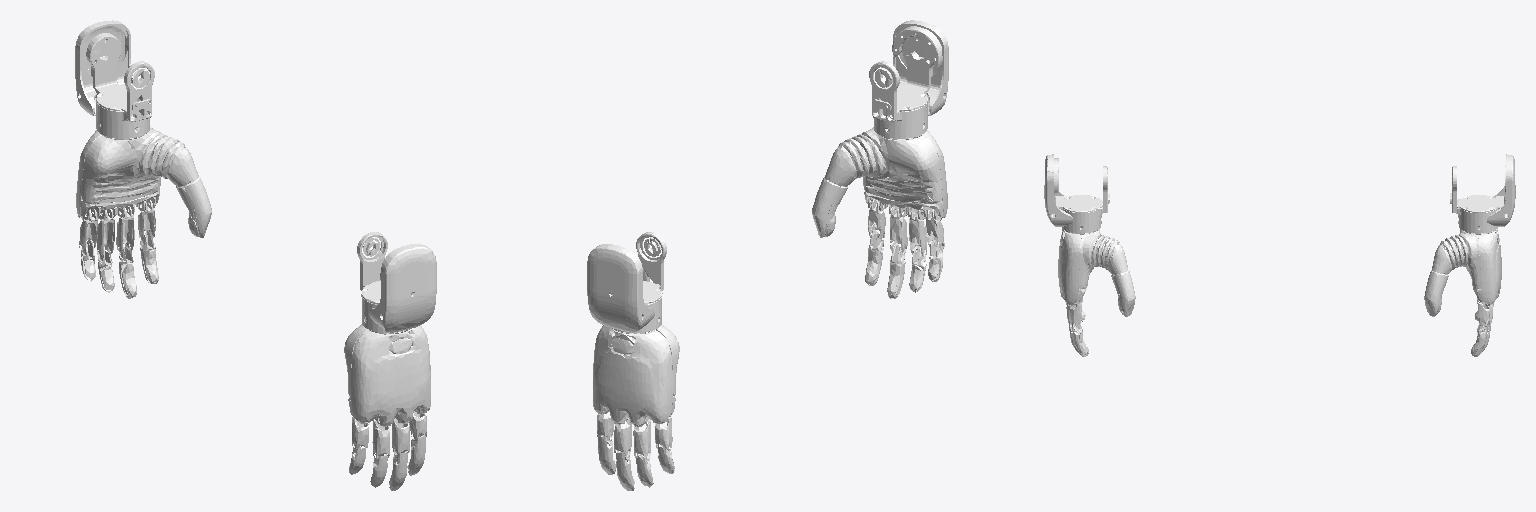
robot.urdf — biped_s40:
<?xml version='1.0' encoding='utf-8'?>
<robot name="biped_s40">
  <mujoco>
    <compiler meshdir="../meshes/" balanceinertia="true" discardvisual="false" />
  </mujoco>
  <link name="base_link">
    <inertial>
      <origin xyz="-0.00505 0.0014 0.18077" rpy="0 0 0" />
      <mass value="22.6889" />
      <inertia ixx="0.28214" ixy="3e-05" ixz="0.01114" iyy="0.20534" iyz="0.00044" izz="0.13735" />
    </inertial>
    <visual>
      <origin xyz="0 0 0" rpy="0 0 0" />
      <geometry>
        <mesh filename="../../meshes/base_link.STL" />
      </geometry>
      <material name="">
        <color rgba="1 1 1 1" />
      </material>
    </visual>
  </link>
  <link name="zarm_l1_link">
    <inertial>
      <origin xyz="0.008 -0.00158 0.0036" rpy="0 0 0" />
      <mass value="1.15" />
      <inertia ixx="0.0006" ixy="5e-05" ixz="1e-05" iyy="0.00048" iyz="-6e-05" izz="0.0007" />
    </inertial>
    <visual>
      <origin xyz="0 0 0" rpy="0 0 0" />
      <geometry>
        <mesh filename="../../meshes/l_arm_pitch.STL" />
      </geometry>
      <material name="">
        <color rgba="1 1 1 1" />
      </material>
    </visual>
  </link>
  <joint name="zarm_l1_joint" type="revolute">
    <origin xyz="-0.0175 0.25886 0.3245" rpy="0 0 0" />
    <parent link="base_link" />
    <child link="zarm_l1_link" />
    <axis xyz="0 1 0" />
    <limit lower="-2.61799387799149" upper="0.523598775598299" effort="100.0" velocity="41.3433333333333" />
  </joint>
  <link name="zarm_l2_link">
    <inertial>
      <origin xyz="0.00144 0.02159 -0.0202" rpy="0 0 0" />
      <mass value="0.226" />
      <inertia ixx="0.0003" ixy="3e-05" ixz="1e-05" iyy="0.00061" iyz="5e-05" izz="0.00057" />
    </inertial>
    <visual>
      <origin xyz="0 0 0" rpy="0 0 0" />
      <geometry>
        <mesh filename="../../meshes/l_arm_roll.STL" />
      </geometry>
      <material name="">
        <color rgba="1 1 1 1" />
      </material>
    </visual>
  </link>
  <joint name="zarm_l2_joint" type="revolute">
    <origin xyz="0 0 0" rpy="0 0 0" />
    <parent link="zarm_l1_link" />
    <child link="zarm_l2_link" />
    <axis xyz="1 0 0" />
    <limit lower="-0.349065850398866" upper="2.0943951023932" effort="50.0" velocity="19.154" />
  </joint>
  <link name="zarm_l3_link">
    <inertial>
      <origin xyz="-0.00157 -3e-05 -0.13318" rpy="0 0 0" />
      <mass value="1.166" />
      <inertia ixx="0.00245" ixy="-1e-05" ixz="-1e-05" iyy="0.0022" iyz="0.0" izz="0.00112" />
    </inertial>
    <visual>
      <origin xyz="0 0 0" rpy="0 0 0" />
      <geometry>
        <mesh filename="../../meshes/l_arm_yaw.STL" />
      </geometry>
      <material name="">
        <color rgba="1 1 1 1" />
      </material>
    </visual>
  </link>
  <joint name="zarm_l3_joint" type="revolute">
    <origin xyz="0 0 0" rpy="0 0 0" />
    <parent link="zarm_l2_link" />
    <child link="zarm_l3_link" />
    <axis xyz="0 0 1" />
    <limit lower="-1.5707963267949" upper="1.5707963267949" effort="20.0" velocity="18.84" />
  </joint>
  <link name="zarm_l4_link">
    <inertial>
      <origin xyz="-4e-05 0.0098 -0.05283" rpy="0 0 0" />
      <mass value="0.575" />
      <inertia ixx="0.00098" ixy="0.0" ixz="0.0" iyy="0.00062" iyz="-0.00016" izz="0.00088" />
    </inertial>
    <visual>
      <origin xyz="0 0 0" rpy="0 0 0" />
      <geometry>
        <mesh filename="../../meshes/l_forearm.STL" />
      </geometry>
      <material name="">
        <color rgba="1 1 1 1" />
      </material>
    </visual>
  </link>
  <joint name="zarm_l4_joint" type="revolute">
    <origin xyz="0 0 -0.1646" rpy="0 0 0" />
    <parent link="zarm_l3_link" />
    <child link="zarm_l4_link" />
    <axis xyz="0 1 0" />
    <limit lower="-1.5707963267949" upper="0.0" effort="20.0" velocity="18.84" />
  </joint>
  <link name="zarm_l5_link">
    <inertial>
      <origin xyz="-0.00011 0.00421 -0.11168" rpy="0 0 0" />
      <mass value="0.46" />
      <inertia ixx="0.00077" ixy="0.0" ixz="0.0" iyy="0.0005" iyz="-4e-05" izz="0.00063" />
    </inertial>
    <visual>
      <origin xyz="0 0 0" rpy="0 0 0" />
      <geometry>
        <mesh filename="../../meshes/l_hand_yaw.STL" />
      </geometry>
      <material name="">
        <color rgba="1 1 1 1" />
      </material>
    </visual>
  </link>
  <joint name="zarm_l5_joint" type="revolute">
    <origin xyz="0 0 0" rpy="0 0 0" />
    <parent link="zarm_l4_link" />
    <child link="zarm_l5_link" />
    <axis xyz="0 0 1" />
    <limit lower="-1.5707963267949" upper="1.5707963267949" effort="6.0" velocity="21.666" />
  </joint>
  <link name="zarm_l6_link">
    <inertial>
      <origin xyz="0.00253 0.00382 -0.05356" rpy="0 0 0" />
      <mass value="0.35" />
      <inertia ixx="0.00023" ixy="0.0" ixz="0.0" iyy="0.00024" iyz="-4e-05" izz="0.00019" />
    </inertial>
    <visual>
      <origin xyz="0 0 0" rpy="0 0 0" />
      <geometry>
        <mesh filename="../../meshes/l_hand_pitch.STL" />
      </geometry>
      <material name="">
        <color rgba="1 1 1 1" />
      </material>
    </visual>
  </link>
  <joint name="zarm_l6_joint" type="revolute">
    <origin xyz="0 0 -0.132050000125748" rpy="0 0 0" />
    <parent link="zarm_l5_link" />
    <child link="zarm_l6_link" />
    <axis xyz="0 1 0" />
    <limit lower="-1.5707963267949" upper="1.5707963267949" effort="6.0" velocity="21.666" />
  </joint>
  <link name="zarm_l7_link">
    <inertial>
      <origin xyz="0.00267 0.00748 -0.07162" rpy="0 0 0" />
      <mass value="0.81" />
      <inertia ixx="0.00117" ixy="2e-05" ixz="0.0" iyy="0.00128" iyz="-2e-05" izz="0.00036" />
    </inertial>
    <visual>
      <origin xyz="0 0 0" rpy="0 0 0" />
      <geometry>
        <mesh filename="../../meshes/l_hand_roll.STL" />
      </geometry>
      <material name="">
        <color rgba="1 1 1 1" />
      </material>
    </visual>
  </link>
  <joint name="zarm_l7_joint" type="revolute">
    <origin xyz="0 0 -0.0589999999999999" rpy="0 0 0" />
    <parent link="zarm_l6_link" />
    <child link="zarm_l7_link" />
    <axis xyz="1 0 0" />
    <limit lower="-1.5707963267949" upper="1.5707963267949" effort="6.0" velocity="21.666" />
  </joint>
  <link name="zarm_l7_end_effector">
    <collision>
      <origin rpy="0 0 0" xyz="0 0 0" />
      <geometry>
        <sphere radius="0.005" />
      </geometry>
    </collision>
  </link>
  <joint name="zarm_l7_end_effector_joint" type="fixed">
    <origin xyz="0 -0.03 -0.17" rpy="0 0 0" />
    <parent link="zarm_l7_link" />
    <child link="zarm_l7_end_effector" />
  </joint>
  <link name="zarm_r1_link">
    <inertial>
      <origin xyz="0.008 0.00158 -0.0036" rpy="0 0 0" />
      <mass value="1.15" />
      <inertia ixx="0.0006" ixy="-5e-05" ixz="-1e-05" iyy="0.00048" iyz="-6e-05" izz="0.0007" />
    </inertial>
    <visual>
      <origin xyz="0 0 0" rpy="0 0 0" />
      <geometry>
        <mesh filename="../../meshes/r_arm_pitch.STL" />
      </geometry>
      <material name="">
        <color rgba="1 1 1 1" />
      </material>
    </visual>
  </link>
  <joint name="zarm_r1_joint" type="revolute">
    <origin xyz="-0.0175 -0.25886 0.3245" rpy="0 0 0" />
    <parent link="base_link" />
    <child link="zarm_r1_link" />
    <axis xyz="0 1 0" />
    <limit lower="-2.61799387799149" upper="0.523598775598299" effort="100.0" velocity="41.3433333333333" />
  </joint>
  <link name="zarm_r2_link">
    <inertial>
      <origin xyz="0.00144 -0.02159 -0.02021" rpy="0 0 0" />
      <mass value="0.226" />
      <inertia ixx="0.0003" ixy="-3e-05" ixz="1e-05" iyy="0.00061" iyz="-5e-05" izz="0.00057" />
    </inertial>
    <visual>
      <origin xyz="0 0 0" rpy="0 0 0" />
      <geometry>
        <mesh filename="../../meshes/r_arm_roll.STL" />
      </geometry>
      <material name="">
        <color rgba="1 1 1 1" />
      </material>
    </visual>
  </link>
  <joint name="zarm_r2_joint" type="revolute">
    <origin xyz="0 0 0" rpy="0 0 0" />
    <parent link="zarm_r1_link" />
    <child link="zarm_r2_link" />
    <axis xyz="1 0 0" />
    <limit lower="-2.0943951023932" upper="0.349065850398866" effort="50.0" velocity="19.154" />
  </joint>
  <link name="zarm_r3_link">
    <inertial>
      <origin xyz="-0.00157 3e-05 -0.13318" rpy="0 0 0" />
      <mass value="1.166" />
      <inertia ixx="0.00245" ixy="1e-05" ixz="-1e-05" iyy="0.0022" iyz="0.0" izz="0.00112" />
    </inertial>
    <visual>
      <origin xyz="0 0 0" rpy="0 0 0" />
      <geometry>
        <mesh filename="../../meshes/r_arm_yaw.STL" />
      </geometry>
      <material name="">
        <color rgba="1 1 1 1" />
      </material>
    </visual>
  </link>
  <joint name="zarm_r3_joint" type="revolute">
    <origin xyz="0 0 0" rpy="0 0 0" />
    <parent link="zarm_r2_link" />
    <child link="zarm_r3_link" />
    <axis xyz="0 0 1" />
    <limit lower="-1.5707963267949" upper="1.5707963267949" effort="20.0" velocity="18.84" />
  </joint>
  <link name="zarm_r4_link">
    <inertial>
      <origin xyz="-4e-05 -0.0098 -0.05283" rpy="0 0 0" />
      <mass value="0.575" />
      <inertia ixx="0.00098" ixy="0.0" ixz="0.0" iyy="0.00062" iyz="0.00016" izz="0.00088" />
    </inertial>
    <visual>
      <origin xyz="0 0 0" rpy="0 0 0" />
      <geometry>
        <mesh filename="../../meshes/r_forearm.STL" />
      </geometry>
      <material name="">
        <color rgba="1 1 1 1" />
      </material>
    </visual>
  </link>
  <joint name="zarm_r4_joint" type="revolute">
    <origin xyz="0 0 -0.1646" rpy="0 0 0" />
    <parent link="zarm_r3_link" />
    <child link="zarm_r4_link" />
    <axis xyz="0 1 0" />
    <limit lower="-1.5707963267949" upper="0.0" effort="20.0" velocity="18.84" />
  </joint>
  <link name="zarm_r5_link">
    <inertial>
      <origin xyz="-0.00011 -0.00421 -0.11168" rpy="0 0 0" />
      <mass value="0.46" />
      <inertia ixx="0.00077" ixy="0.0" ixz="0.0" iyy="0.0005" iyz="4e-05" izz="0.00063" />
    </inertial>
    <visual>
      <origin xyz="0 0 0" rpy="0 0 0" />
      <geometry>
        <mesh filename="../../meshes/r_hand_yaw.STL" />
      </geometry>
      <material name="">
        <color rgba="1 1 1 1" />
      </material>
    </visual>
  </link>
  <joint name="zarm_r5_joint" type="revolute">
    <origin xyz="0 0 0" rpy="0 0 0" />
    <parent link="zarm_r4_link" />
    <child link="zarm_r5_link" />
    <axis xyz="0 0 1" />
    <limit lower="-1.5707963267949" upper="1.5707963267949" effort="6.0" velocity="21.666" />
  </joint>
  <link name="zarm_r6_link">
    <inertial>
      <origin xyz="0.00253 -0.00382 -0.05356" rpy="0 0 0" />
      <mass value="0.35" />
      <inertia ixx="0.00023" ixy="0.0" ixz="0.0" iyy="0.00024" iyz="4e-05" izz="0.00019" />
    </inertial>
    <visual>
      <origin xyz="0 0 0" rpy="0 0 0" />
      <geometry>
        <mesh filename="../../meshes/r_hand_pitch.STL" />
      </geometry>
      <material name="">
        <color rgba="1 1 1 1" />
      </material>
    </visual>
  </link>
  <joint name="zarm_r6_joint" type="revolute">
    <origin xyz="0 0 -0.132050000240097" rpy="0 0 0" />
    <parent link="zarm_r5_link" />
    <child link="zarm_r6_link" />
    <axis xyz="0 1 0" />
    <limit lower="-1.5707963267949" upper="1.5707963267949" effort="6.0" velocity="21.666" />
  </joint>
  <link name="zarm_r7_link">
    <inertial>
      <origin xyz="0.00267 -0.00748 -0.07162" rpy="0 0 0" />
      <mass value="0.81" />
      <inertia ixx="0.00098" ixy="-1e-05" ixz="1e-05" iyy="0.00104" iyz="1e-05" izz="0.00027" />
    </inertial>
    <visual>
      <origin xyz="0 0 0" rpy="0 0 0" />
      <geometry>
        <mesh filename="../../meshes/r_hand_roll.STL" />
      </geometry>
      <material name="">
        <color rgba="1 1 1 1" />
      </material>
    </visual>
  </link>
  <joint name="zarm_r7_joint" type="revolute">
    <origin xyz="0 0 -0.0589999999999999" rpy="0 0 0" />
    <parent link="zarm_r6_link" />
    <child link="zarm_r7_link" />
    <axis xyz="1 0 0" />
    <limit lower="-1.5707963267949" upper="1.5707963267949" effort="6.0" velocity="21.666" />
  </joint>
  <link name="zarm_r7_end_effector">
    <collision>
      <origin rpy="0 0 0" xyz="0 0 0" />
      <geometry>
        <sphere radius="0.005" />
      </geometry>
    </collision>
  </link>
  <joint name="zarm_r7_end_effector_joint" type="fixed">
    <origin xyz="0 0.03 -0.17" rpy="0 0 0" />
    <parent link="zarm_r7_link" />
    <child link="zarm_r7_end_effector" />
  </joint>
  </robot>

--- Facts derived from the render (not from the file) ---
The picture shows the robot from 3 angles, left to right: view 1: azimuth 30°, elevation 25°; view 2: azimuth 150°, elevation 25°; view 3: azimuth 270°, elevation 25°; orthographic projection.
Model biped_s40 with 17 links and 16 joints (14 revolute, 2 fixed), rooted at base_link, posed all joints at 0.
Links seen in each view (by area): view 1: zarm_l6_link, zarm_r6_link; view 2: zarm_r6_link, zarm_l6_link; view 3: zarm_r6_link, zarm_l6_link.
Boxes of the visible links, x1,y1,x2,y2 form: zarm_l6_link: [75, 20, 211, 298]; zarm_r6_link: [344, 232, 436, 490]; zarm_r6_link: [812, 20, 948, 298]; zarm_l6_link: [587, 232, 679, 490]; zarm_r6_link: [1044, 154, 1135, 356]; zarm_l6_link: [1424, 154, 1515, 356].
Size in the robot's own frame: 0.1089 by 0.6121 by 0.2817 metres.
2 mesh visuals loaded from 15 distinct referenced files (2 binary STL); not drawn: 13 (reference not matched to a file when rendering).